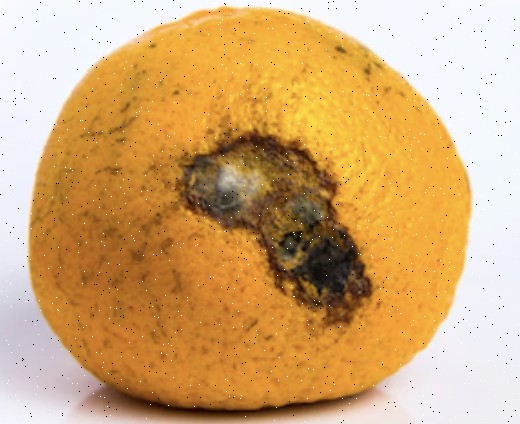rotten_orange: (30, 8, 472, 410)
